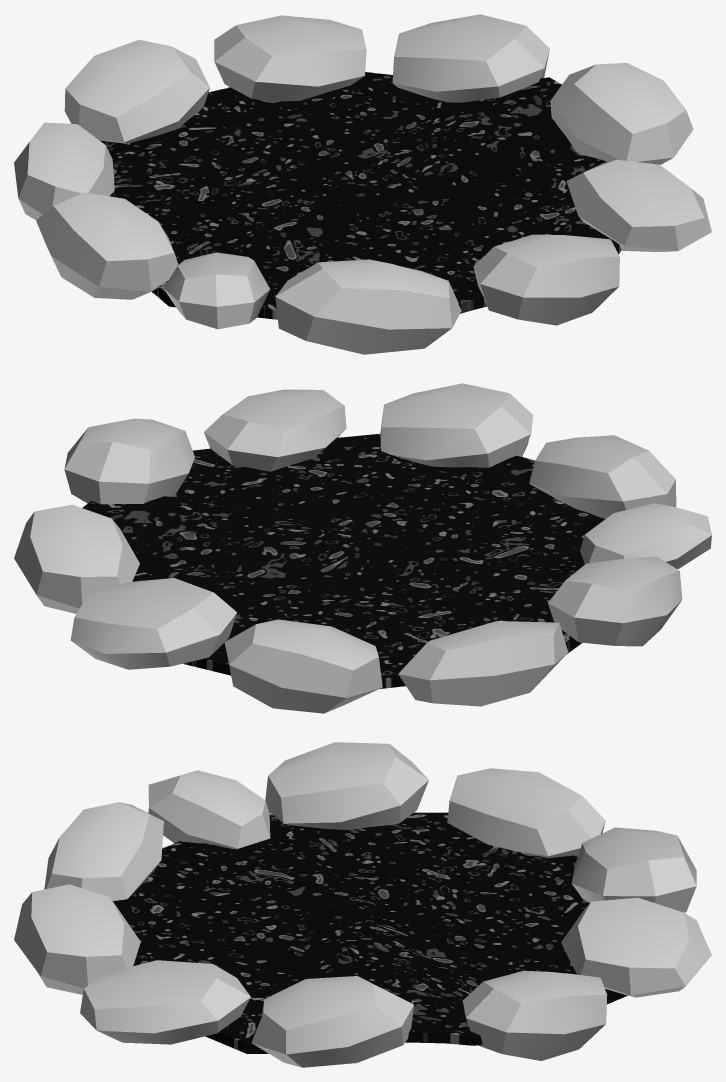
The model's file is campfire.fbx.
3 renders of one model, top to bottom at view 1: azimuth 30°, elevation 25°; view 2: azimuth 150°, elevation 25°; view 3: azimuth 270°, elevation 25°, orthographic. The views are drawn at different scales.
Parts seen in each view (by area): view 1: Plane, Cube.008, Cube.002, Cube.004, Cube.005, Cube, Cube.003, Cube.007, Cube.006, Cube.001, Cube.009; view 2: Plane, Cube.003, Cube.002, Cube.001, Cube.007, Cube, Cube.004, Cube.005, Cube.008, Cube.006, Cube.009; view 3: Plane, Cube, Cube.005, Cube.006, Cube.003, Cube.001, Cube.004, Cube.007, Cube.008, Cube.002, Cube.009.
Part boxes in pixels (<box>): Plane: <box>100,72,656,319</box>; Cube.008: <box>275,259,461,354</box>; Cube.002: <box>64,40,209,143</box>; Cube.004: <box>392,14,549,102</box>; Cube.005: <box>550,63,693,164</box>; Cube: <box>36,192,178,299</box>; Cube.003: <box>214,15,366,101</box>; Cube.007: <box>473,234,619,325</box>; Cube.006: <box>566,159,711,251</box>; Cube.001: <box>14,122,114,220</box>; Cube.009: <box>163,252,270,329</box>; Plane: <box>82,433,604,688</box>; Cube.003: <box>70,578,236,669</box>; Cube.002: <box>224,619,382,713</box>; Cube.001: <box>398,621,568,706</box>; Cube.007: <box>380,383,533,467</box>; Cube: <box>548,556,682,646</box>; Cube.004: <box>14,504,139,613</box>; Cube.005: <box>64,418,194,504</box>; Cube.008: <box>529,435,676,518</box>; Cube.006: <box>204,389,346,471</box>; Cube.009: <box>580,503,711,568</box>; Plane: <box>113,811,627,1053</box>; Cube: <box>265,742,428,829</box>; Cube.005: <box>251,976,413,1067</box>; Cube.006: <box>80,960,250,1044</box>; Cube.003: <box>561,897,711,997</box>; Cube.001: <box>447,768,605,858</box>; Cube.004: <box>463,970,607,1060</box>; Cube.007: <box>14,884,140,994</box>; Cube.008: <box>44,802,163,900</box>; Cube.002: <box>571,827,696,912</box>; Cube.009: <box>148,770,270,849</box>.
Bounding box in the file's own units: 5.13 × 5.11 × 0.7751.
